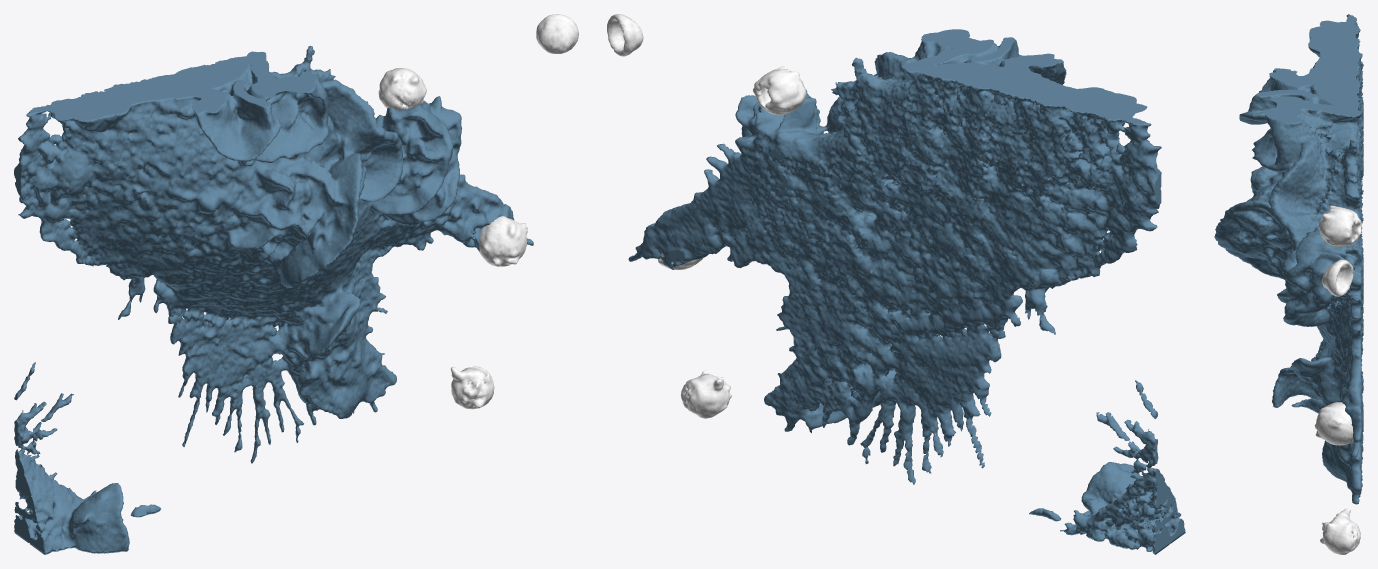
The picture shows the model from 3 angles, left to right: view 1: azimuth 30°, elevation 25°; view 2: azimuth 150°, elevation 25°; view 3: azimuth 270°, elevation 25°; orthographic projection. The views are drawn at different scales.
Visible parts, largest first — view 1: surface (×2); view 2: surface (×2); view 3: surface (×2).
Part boxes in pixels (x1,y1,x2,y2): surface (×2): [14, 14, 578, 554]; surface (×2): [607, 14, 1185, 554]; surface (×2): [1214, 14, 1363, 554].
Bounding box in the file's own units: 600 × 436 × 160.
